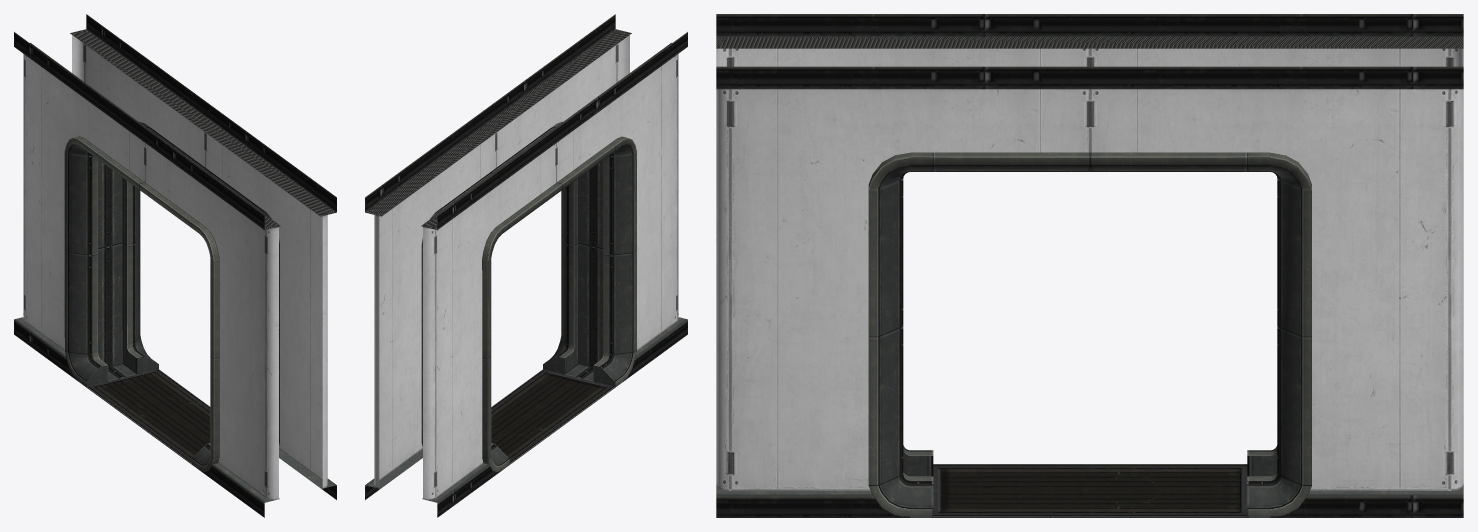
File: Neon_DoorFrame_01b.FBX
3 renders of one model, left to right at view 1: azimuth 30°, elevation 25°; view 2: azimuth 150°, elevation 25°; view 3: azimuth 270°, elevation 25°, orthographic. The views are drawn at different scales.
Visible parts, largest first — view 1: Neon_DoorFrame_01b; view 2: Neon_DoorFrame_01b; view 3: Neon_DoorFrame_01b.
Part boxes in pixels (box(x1,y1,x2,y2)): Neon_DoorFrame_01b: box(14, 14, 336, 517); Neon_DoorFrame_01b: box(365, 14, 687, 517); Neon_DoorFrame_01b: box(716, 14, 1463, 517).
Bounding box in the file's own units: 1 × 4 × 6.
